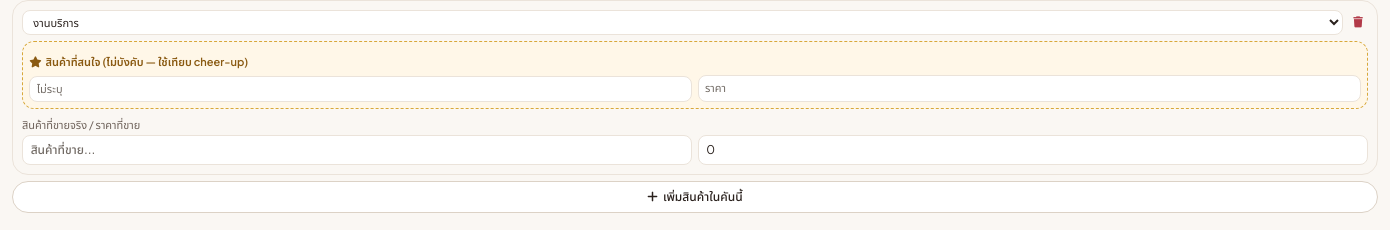
Test: ItemsSection — งานบริการ reads stock like every other category › offers the services that exist in stock, and no way to invent one
The width and height of the screenshot is (1390, 230).
What coordinates should you click on to do the following:
click the dropdown named "สินค้าที่ขายจริง"
I would click on:
 (357, 150)
Its box is [22, 135, 692, 165].
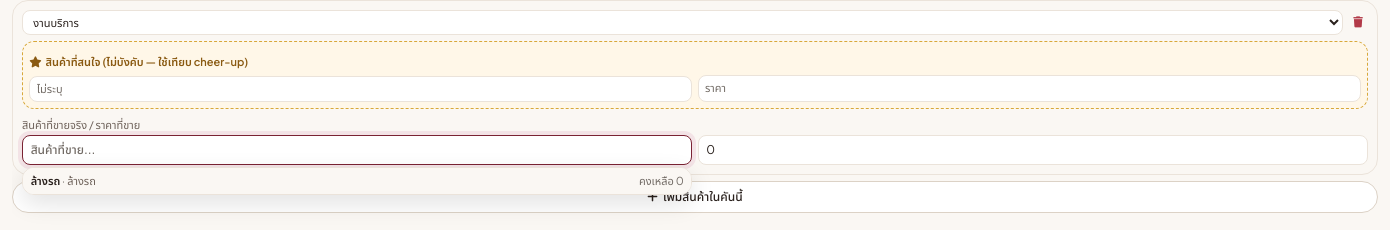
Expected: the option "ล้างรถ · ล้างรถ คงเหลือ 0" is shown, [23, 168, 692, 194]
